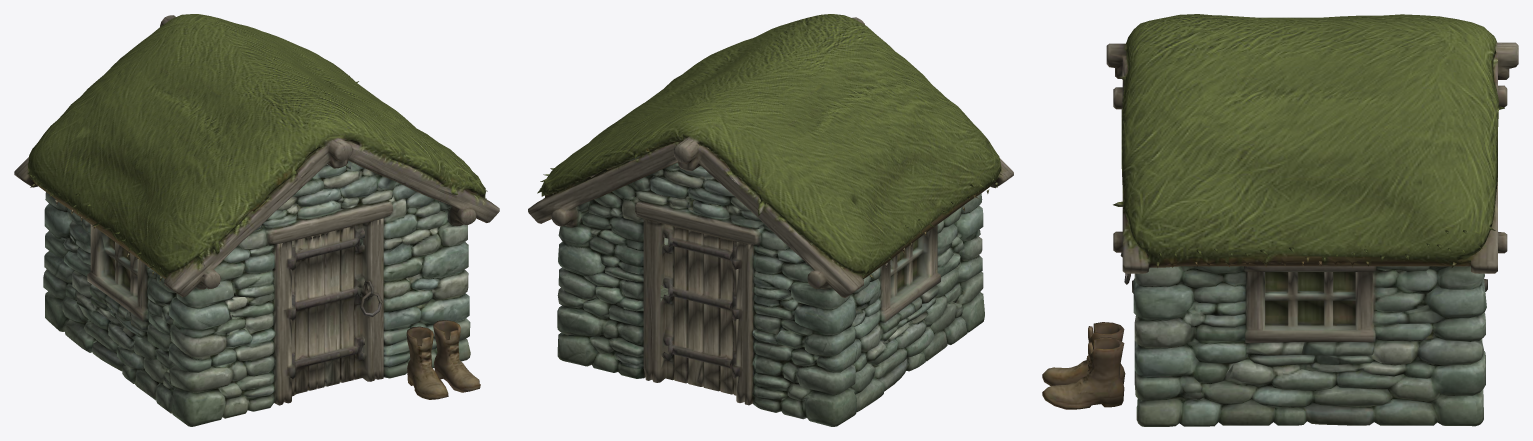
The model's file is lm_sheiling.glb.
3 views of the same model, side by side, from view 1: azimuth 30°, elevation 25°; view 2: azimuth 150°, elevation 25°; view 3: azimuth 270°, elevation 25° (orthographic). The views are drawn at different scales.
Parts seen in each view (by area): view 1: lm_sheiling-convcol; view 2: lm_sheiling-convcol; view 3: lm_sheiling-convcol.
Part boxes in pixels (x1,y1,x2,y2): lm_sheiling-convcol: (14,14,499,426); lm_sheiling-convcol: (528,14,1013,426); lm_sheiling-convcol: (1042,14,1518,426).
Bounding box in the file's own units: 3.84 × 3 × 4.
1 material, 1 textured.
